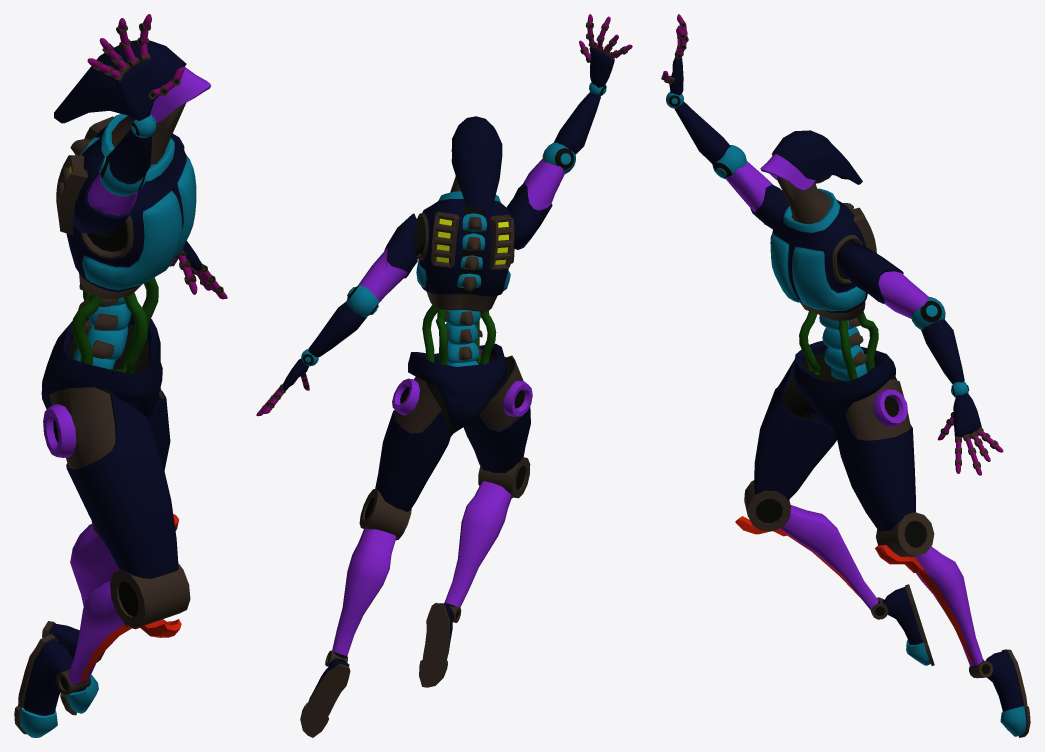
File: OBJ_PersoPose_6.fbx
3 renders of one model, left to right at view 1: azimuth 30°, elevation 25°; view 2: azimuth 150°, elevation 25°; view 3: azimuth 270°, elevation 25°, orthographic. The views are drawn at different scales.
Visible parts, largest first — view 1: OBJ_PersoPose_6; view 2: OBJ_PersoPose_6; view 3: OBJ_PersoPose_6.
Boxes of the visible parts, x1,y1,x2,y2 form: OBJ_PersoPose_6: (14,14,227,737); OBJ_PersoPose_6: (256,14,632,737); OBJ_PersoPose_6: (661,14,1030,737).
Bounding box in the file's own units: 33.08 × 86.52 × 44.08.
